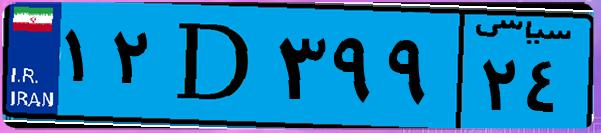1: (57, 26, 110, 100)
2: (475, 38, 525, 113), (110, 28, 158, 98)
3: (270, 28, 330, 110)
4: (525, 38, 570, 115)
9: (385, 28, 445, 110), (330, 28, 385, 110)
D: (158, 12, 270, 120)
